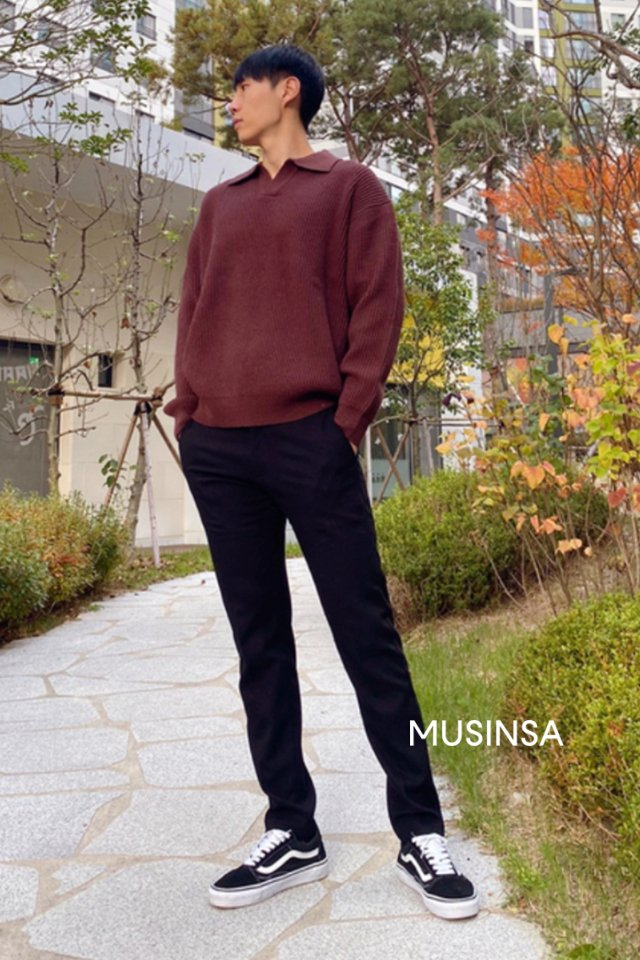Pants: (166, 414, 461, 833)
Shoes: (203, 830, 486, 922)
Top: (157, 152, 407, 423)
